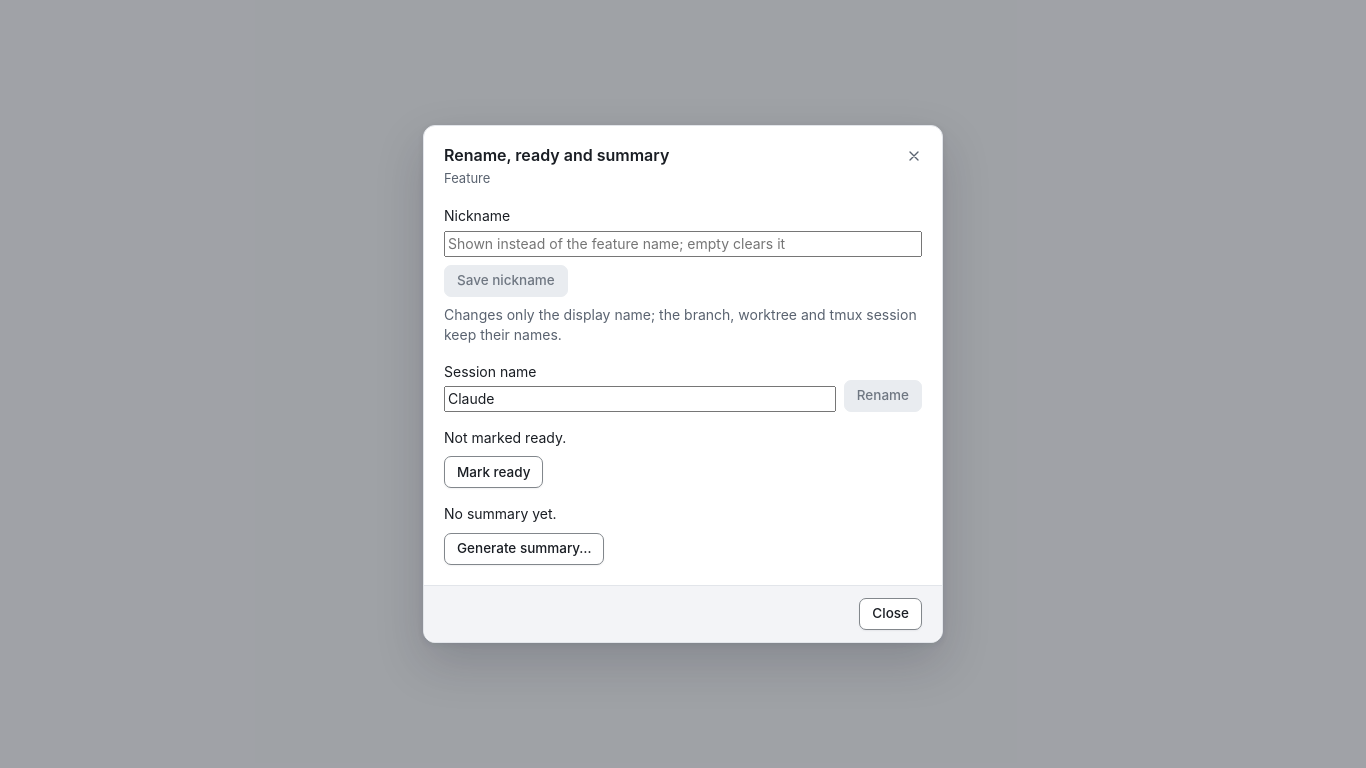
toggles ready against the value it showed
Click the button "Mark ready".
click(494, 472)  # box [444,456,544,488]
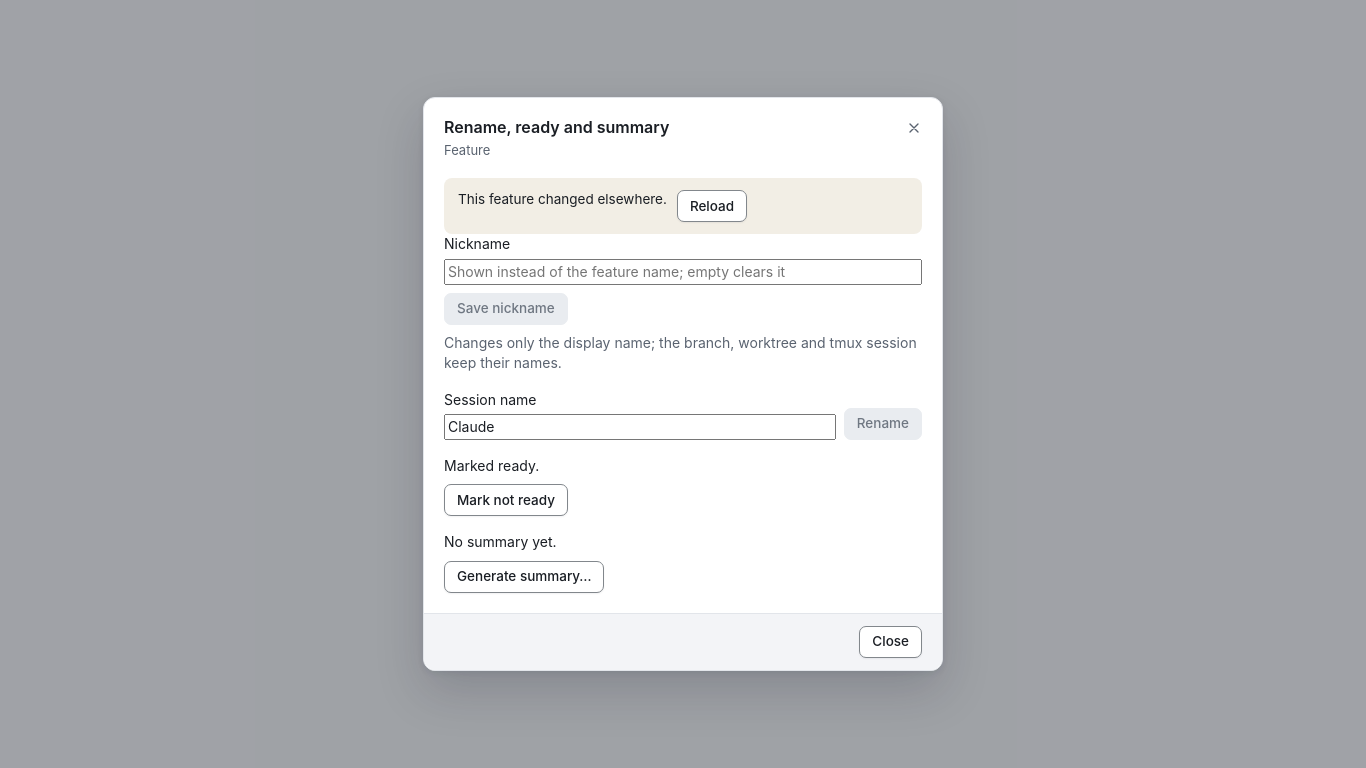
Check: the button "Mark not ready" is shown, box [444,484,568,516]
